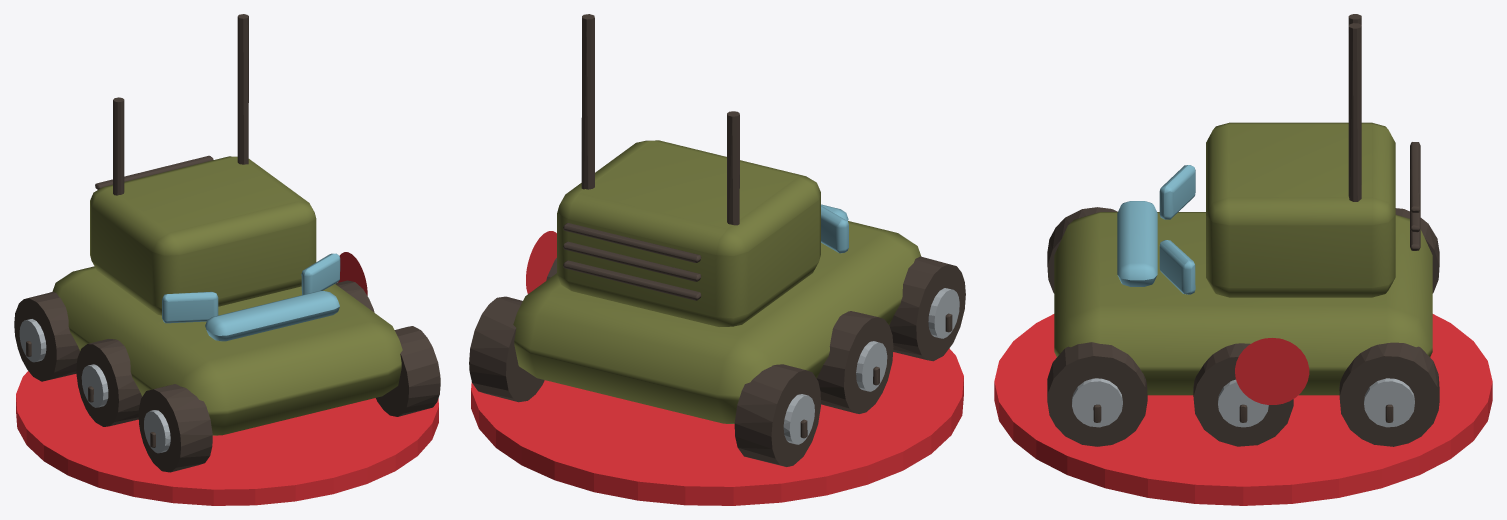
Rendered from japan_headquarters_lod0.glb.
The picture shows the model from 3 angles, left to right: view 1: azimuth 30°, elevation 25°; view 2: azimuth 150°, elevation 25°; view 3: azimuth 270°, elevation 25°; orthographic projection. The views are drawn at different scales.
Parts seen in each view (by area): view 1: body_hull, base_pedestal; view 2: body_hull, base_pedestal; view 3: body_hull, base_pedestal.
Part boxes in pixels (<box>): body_hull: <box>14,14,440,472</box>; base_pedestal: <box>16,371,438,505</box>; body_hull: <box>469,14,965,466</box>; base_pedestal: <box>471,348,963,505</box>; body_hull: <box>1047,14,1439,446</box>; base_pedestal: <box>994,314,1492,505</box>.
Size of the model in its own units: 0.78 by 0.7101 by 0.78.
